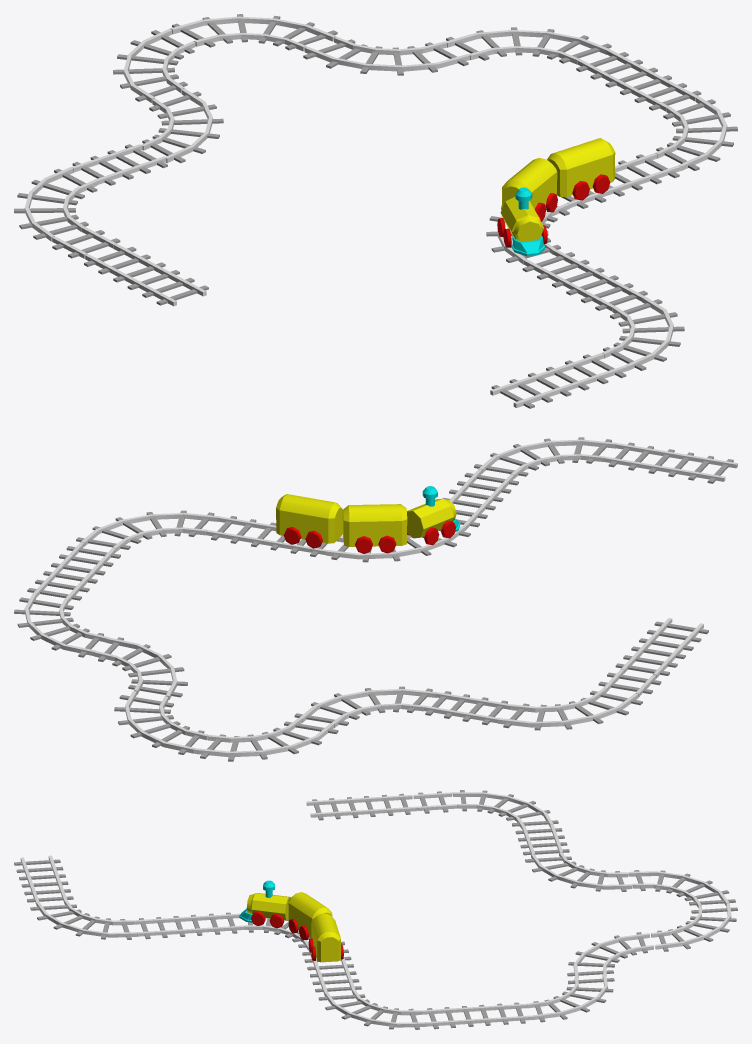
File: BedRoom_Railway.fbx
3 renders of one model, top to bottom at view 1: azimuth 30°, elevation 25°; view 2: azimuth 150°, elevation 25°; view 3: azimuth 270°, elevation 25°, orthographic. The views are drawn at different scales.
Parts seen in each view (by area): view 1: BedRoom_Railway; view 2: BedRoom_Railway; view 3: BedRoom_Railway.
Boxes of the visible parts, left/top/right/bottom form: BedRoom_Railway: left=14, top=14, right=737, bottom=408; BedRoom_Railway: left=14, top=437, right=737, bottom=761; BedRoom_Railway: left=14, top=790, right=737, bottom=1029.
Bounding box in the file's own units: 234 × 19.51 × 300.
